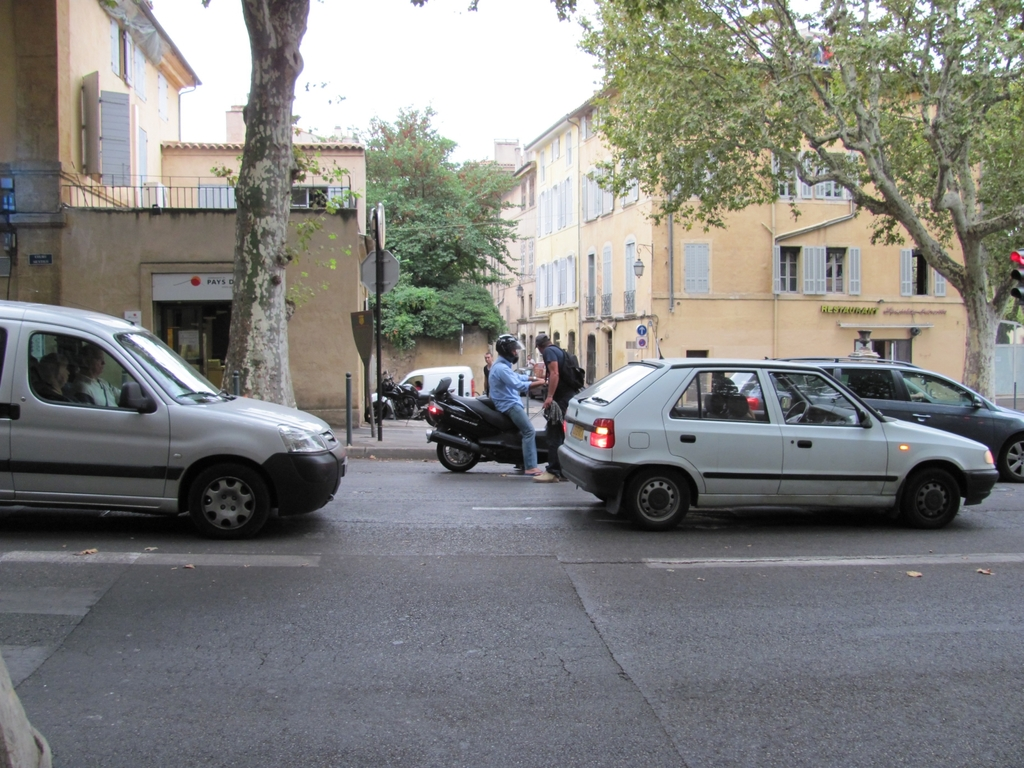Car: (0, 296, 349, 538), (554, 357, 1000, 533), (722, 368, 1023, 480), (373, 365, 477, 417)
